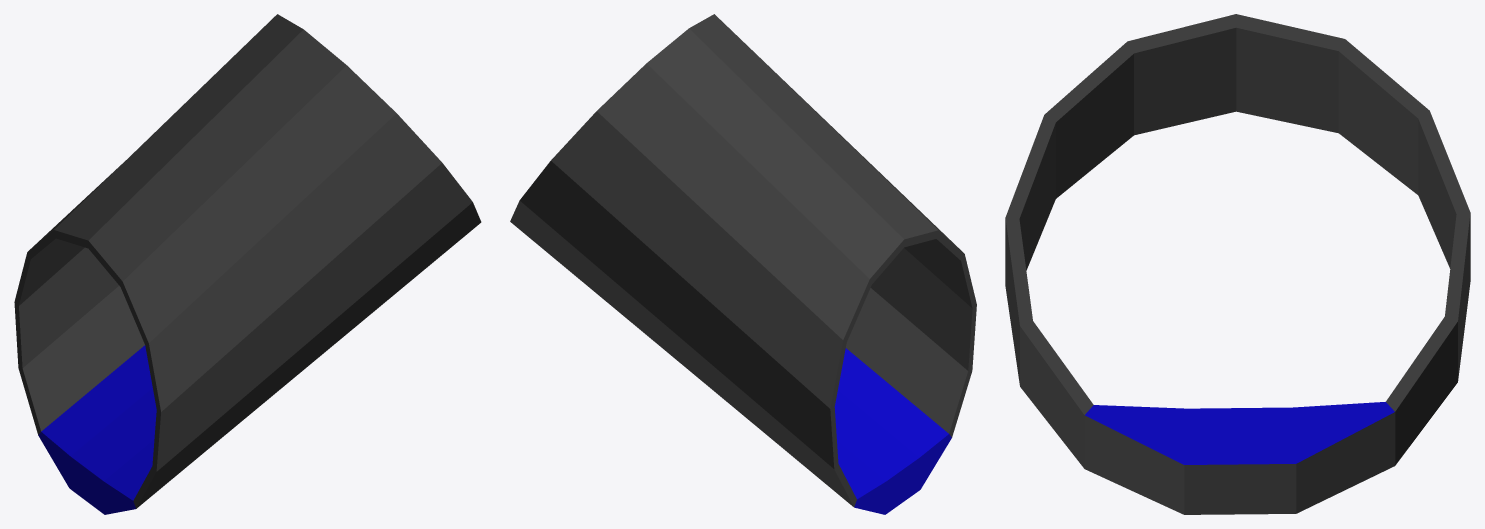
File: tunnel up and down1.5.fbx
3 renders of one model, left to right at view 1: azimuth 30°, elevation 25°; view 2: azimuth 150°, elevation 25°; view 3: azimuth 270°, elevation 25°, orthographic. The views are drawn at different scales.
Visible parts, largest first — view 1: Cylinder; view 2: Cylinder; view 3: Cylinder.
Part boxes in pixels (x1,y1,x2,y2): Cylinder: (14,14,481,514); Cylinder: (510,14,976,514); Cylinder: (1005,14,1470,514).
Size of the model in its own units: 1003 by 1117 by 705.
